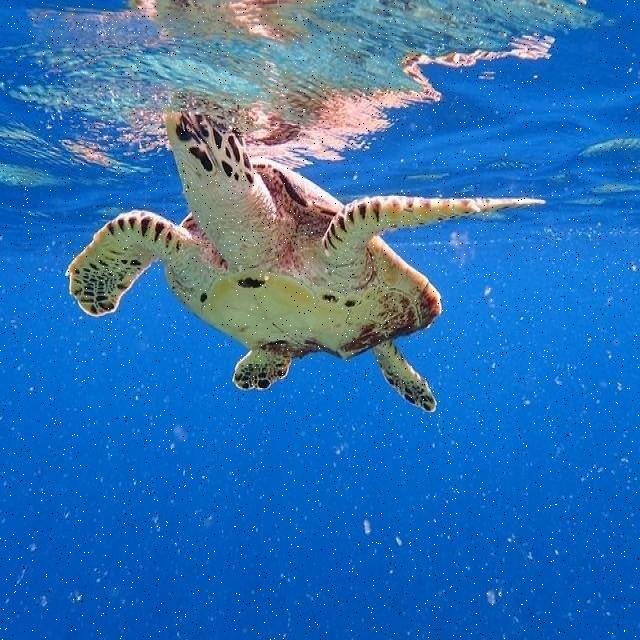fish: (65, 110, 547, 410)
